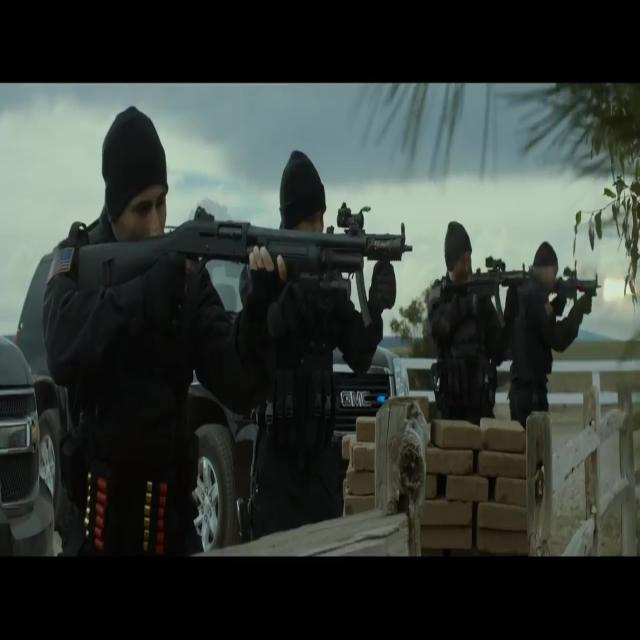Weapon: (71, 180, 416, 328), (431, 225, 534, 342), (542, 246, 626, 324), (140, 459, 187, 571), (77, 450, 115, 550)
